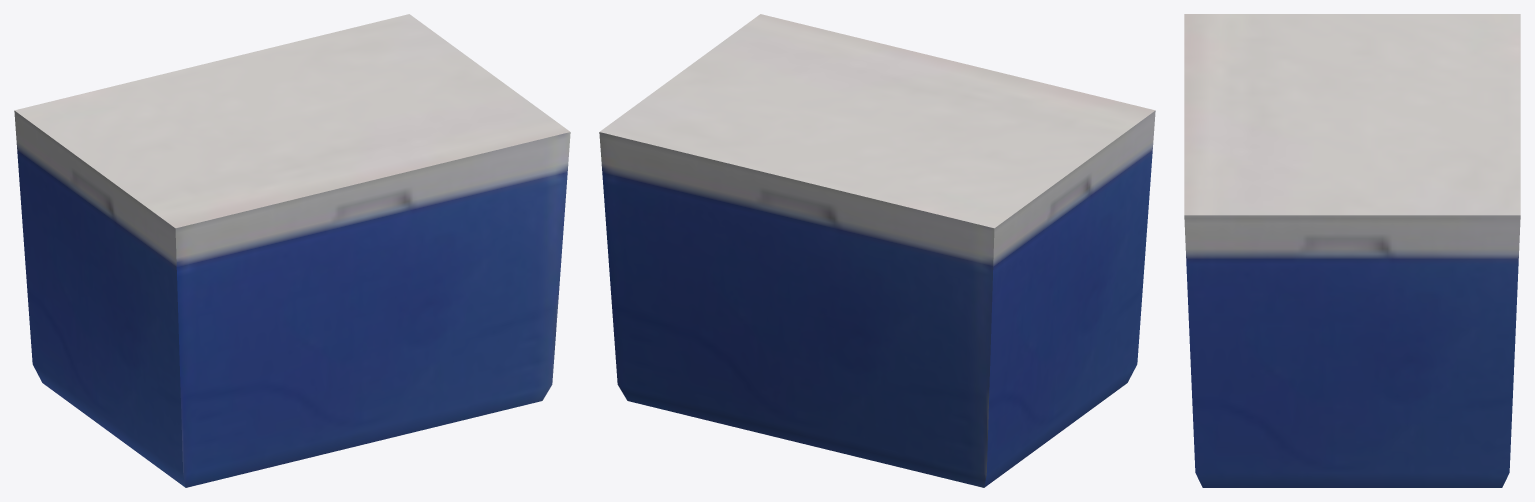
Rendered from ice_box.FBX.
3 renders of one model, left to right at view 1: azimuth 30°, elevation 25°; view 2: azimuth 150°, elevation 25°; view 3: azimuth 270°, elevation 25°, orthographic. The views are drawn at different scales.
Visible parts, largest first — view 1: ice_box; view 2: ice_box; view 3: ice_box.
Part boxes in pixels (x1,y1,x2,y2): ice_box: (14,14,570,487); ice_box: (599,14,1155,487); ice_box: (1184,14,1520,487).
Bounding box in the file's own units: 53.71 × 35.94 × 37.95.
